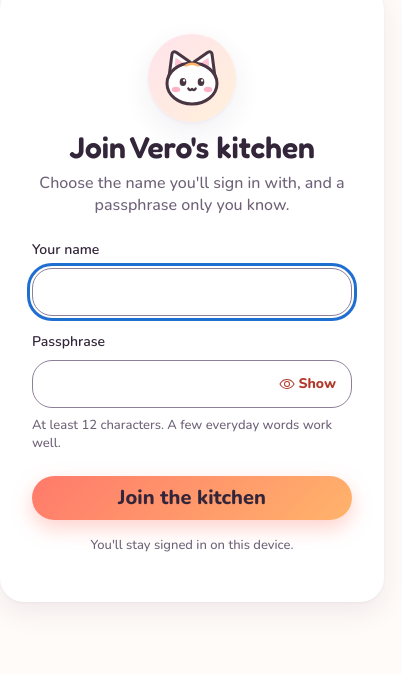
Test: /join/<token> › sends the name and passphrase; a taken name puts focus back on the name, keeping both
The width and height of the screenshot is (402, 674).
In the field labelled "Your name": {"x": 192, "y": 292} [32, 268, 352, 316], type "Levi"
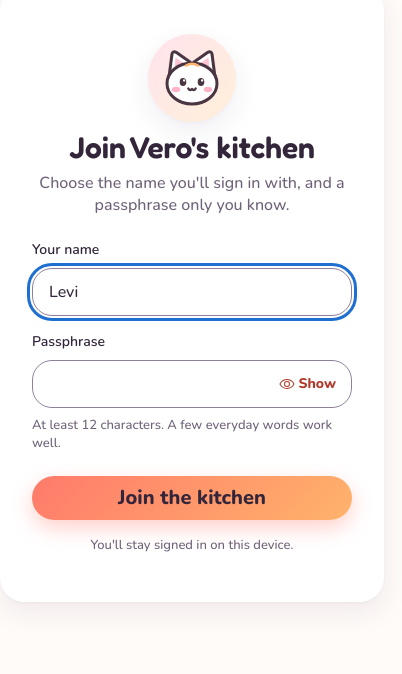
In the password field labelled "Passphrase": {"x": 192, "y": 384} [32, 360, 352, 408], type "olive lemon window"
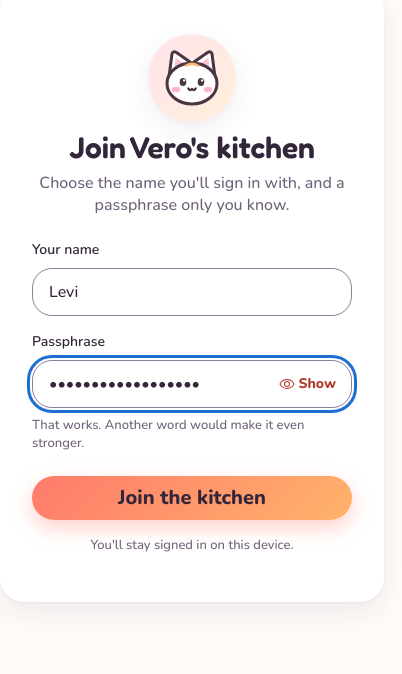
Click the button "Join the kitchen": {"x": 192, "y": 498} [32, 476, 352, 520]
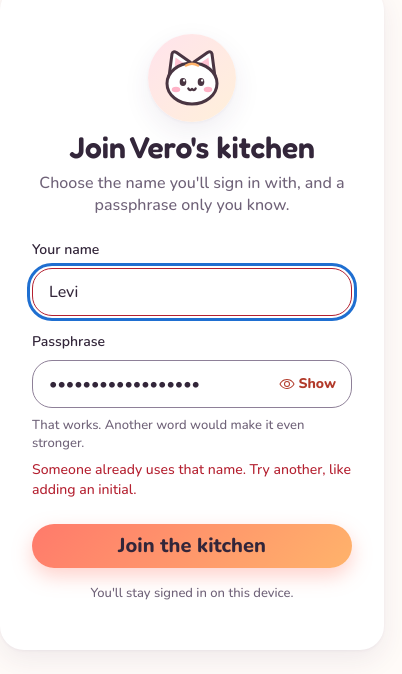
expect the message shows "Someone already uses that name.": met, box [32, 460, 351, 499]
